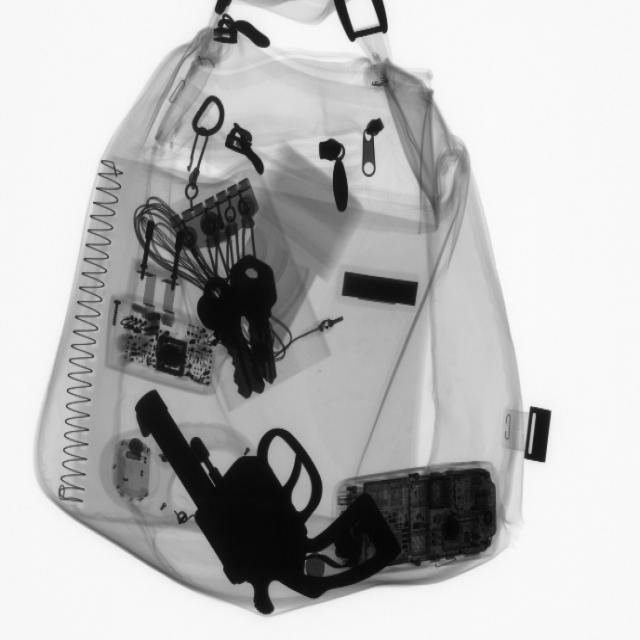GUN: (138, 373, 403, 620)
